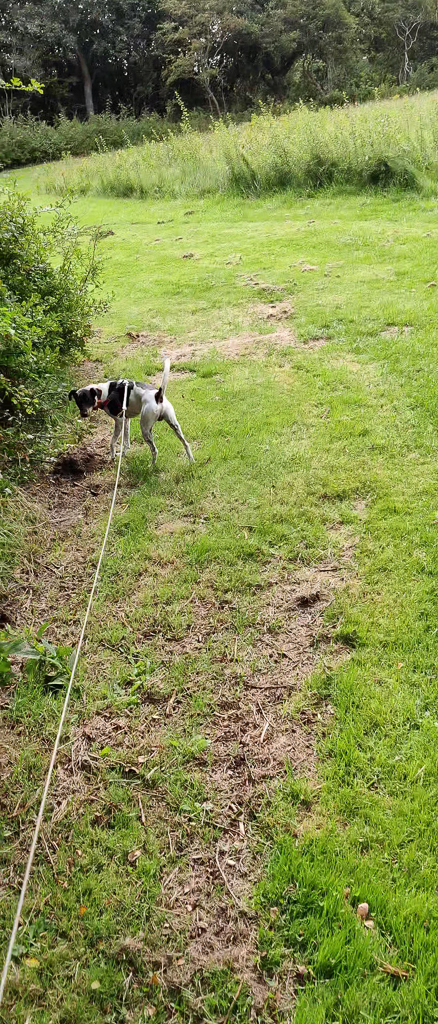Dog: (63, 352, 208, 480)
